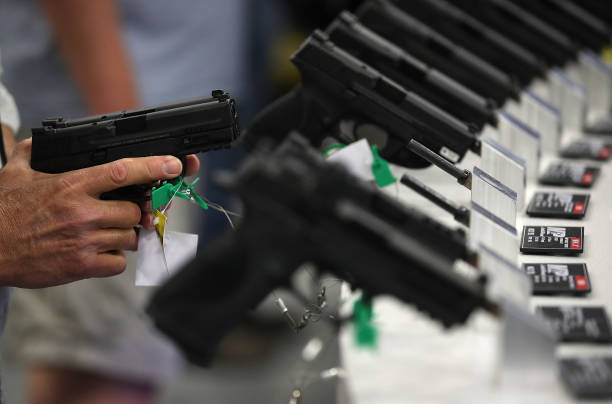pistol: (240, 32, 480, 181), (30, 86, 240, 217)
